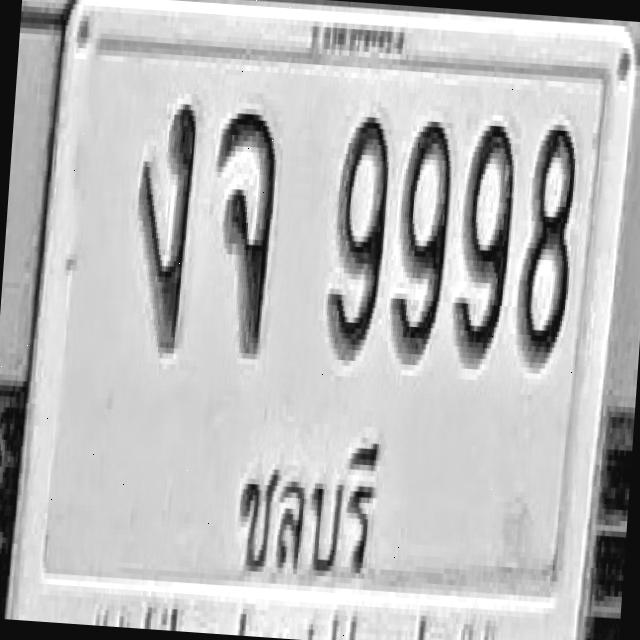16NgorNgu: (128, 95, 199, 348)
17ChorChan: (203, 106, 279, 354)
8: (514, 117, 578, 364)
9: (323, 107, 392, 359), (451, 118, 517, 365), (389, 114, 455, 361)
Chonburi: (226, 432, 388, 610)
